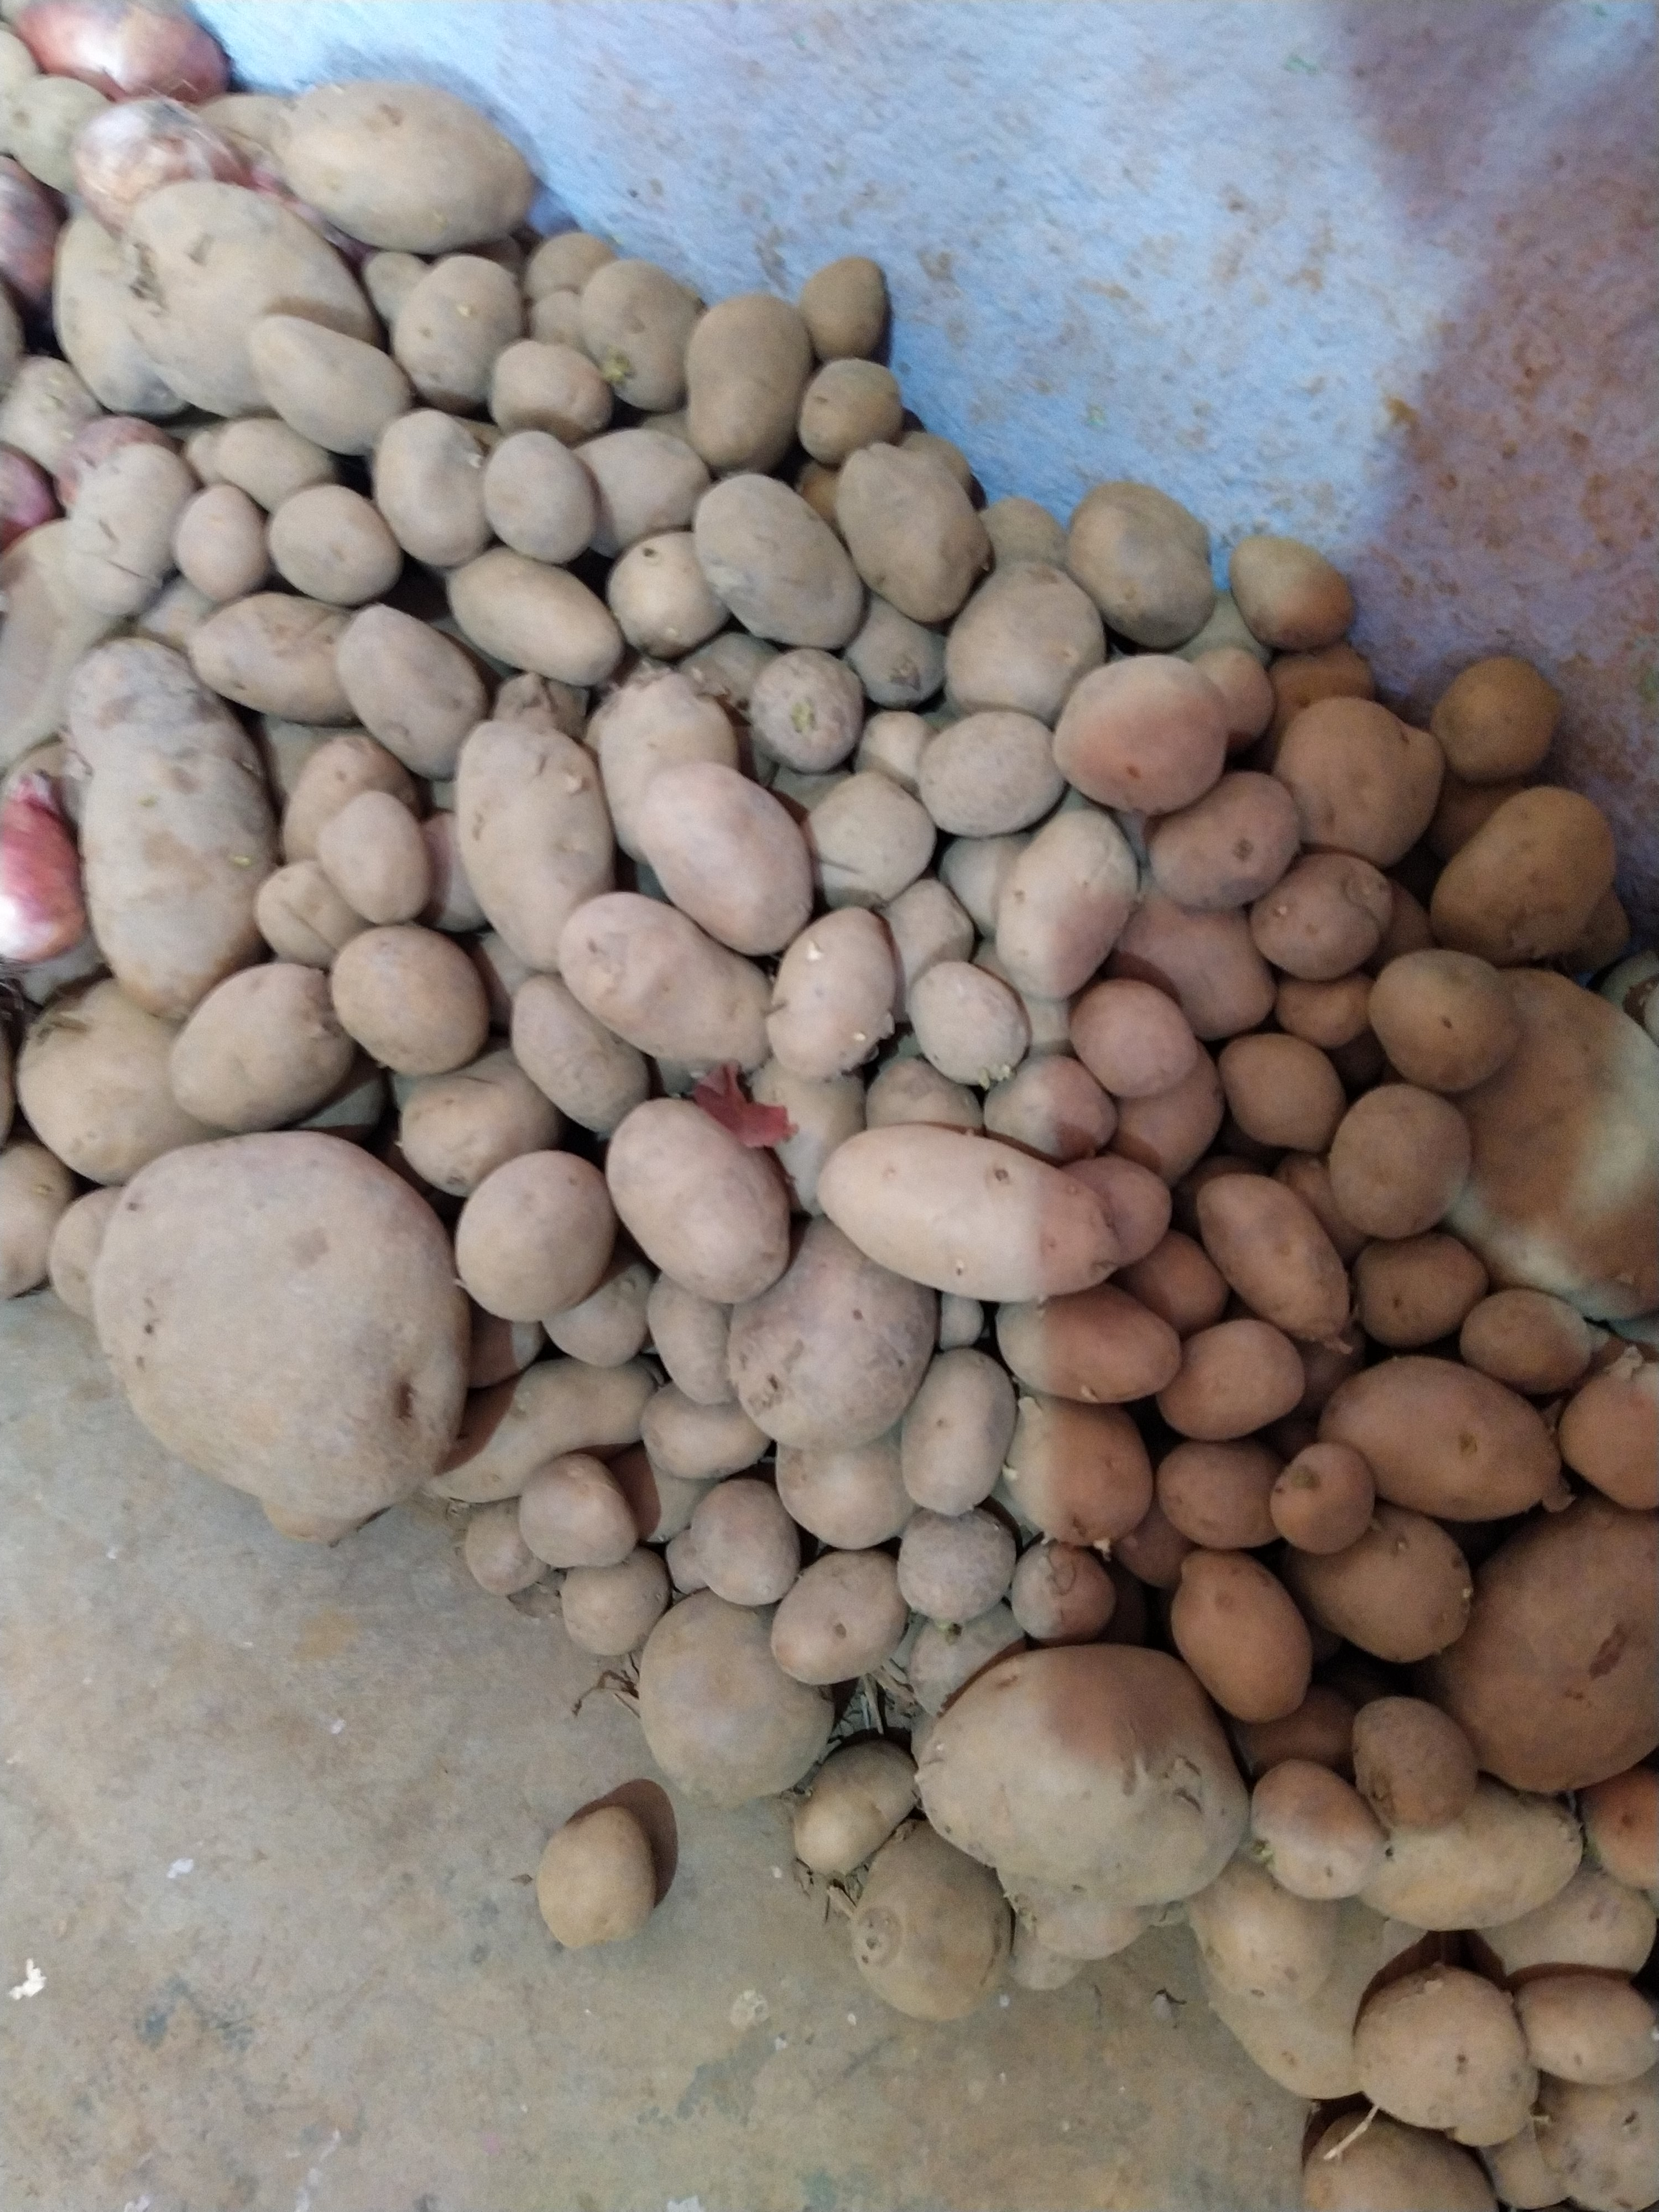food: (0, 3, 1657, 2209)
